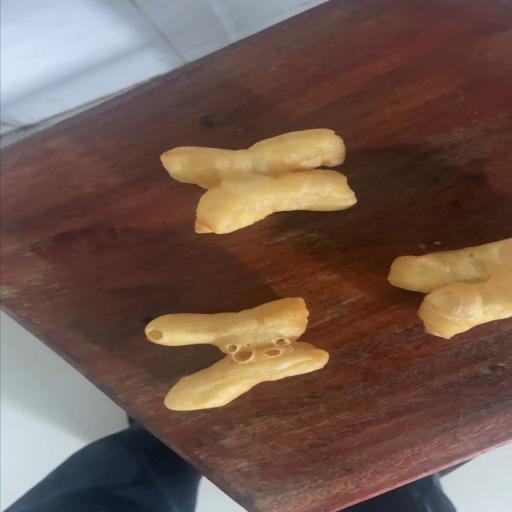street_golden_defect: (146, 299, 326, 408), (389, 238, 512, 337)
street_golden_good: (162, 130, 357, 234)
